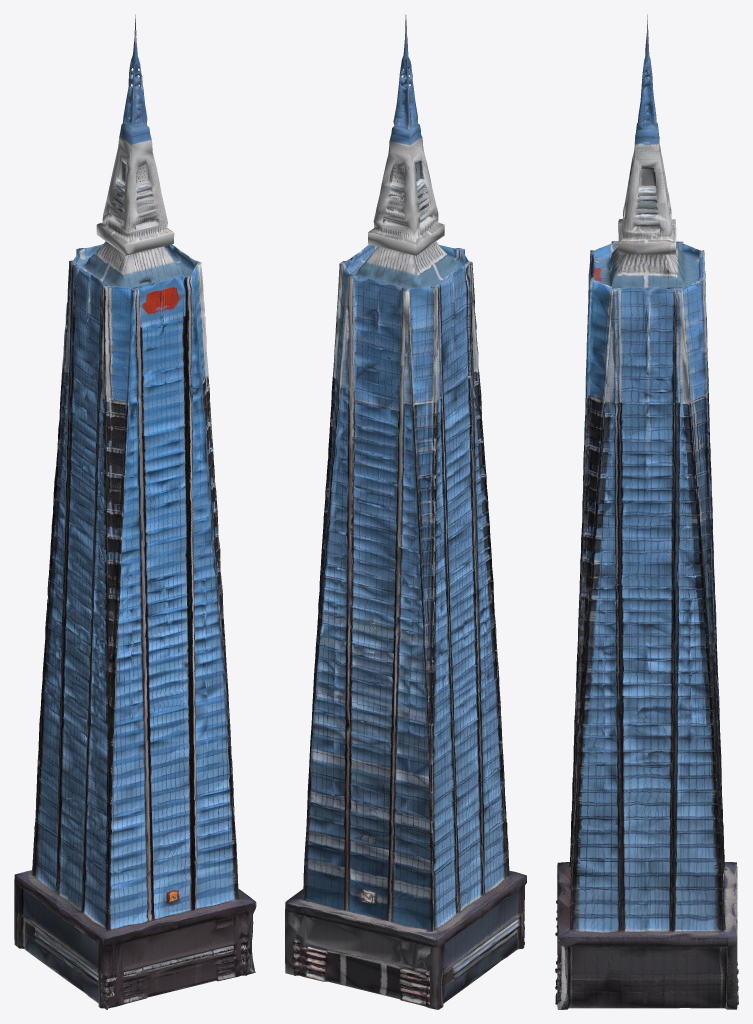
The model's file is nyc_skyscraper.glb.
3 views of the same model, side by side, from view 1: azimuth 30°, elevation 25°; view 2: azimuth 150°, elevation 25°; view 3: azimuth 270°, elevation 25° (orthographic).
Size of the model in its own units: 0.3233 by 1.9 by 0.33.
Materials: 1 (1 with a texture image).
